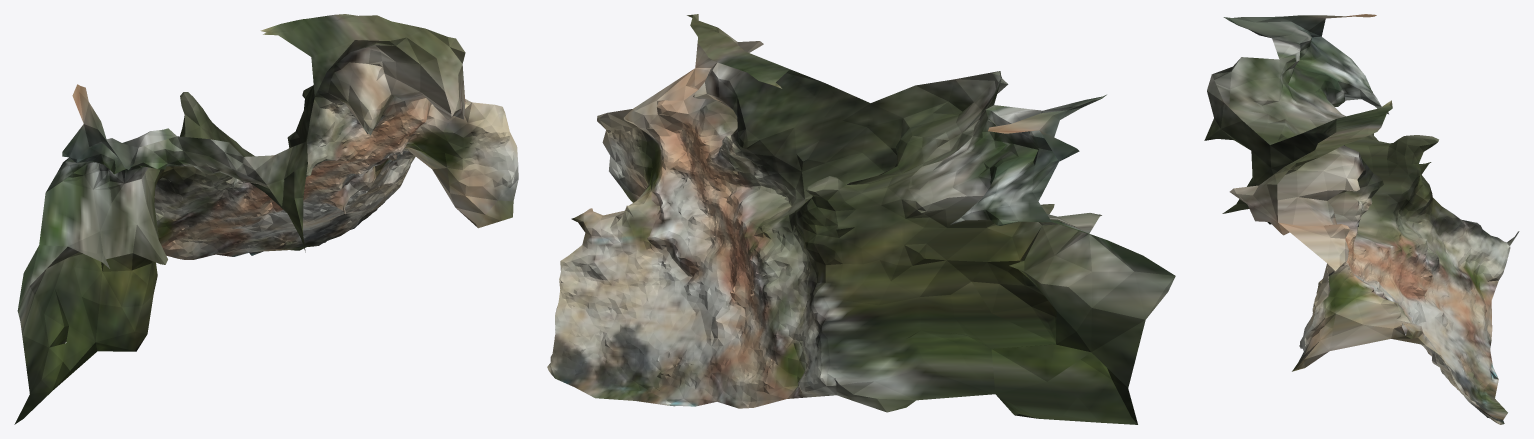
The model's file is texturedMesh.obj.
The picture shows the model from 3 angles, left to right: view 1: azimuth 30°, elevation 25°; view 2: azimuth 150°, elevation 25°; view 3: azimuth 270°, elevation 25°; orthographic projection. The views are drawn at different scales.
Visible parts, largest first — view 1: TexturedMesh; view 2: TexturedMesh; view 3: TexturedMesh.
Boxes of the visible parts, <box> form: TexturedMesh: <box>14,14,518,424</box>; TexturedMesh: <box>547,14,1175,424</box>; TexturedMesh: <box>1204,14,1519,424</box>.
Bounding box in the file's own units: 1.51 × 0.8025 × 0.8461.
